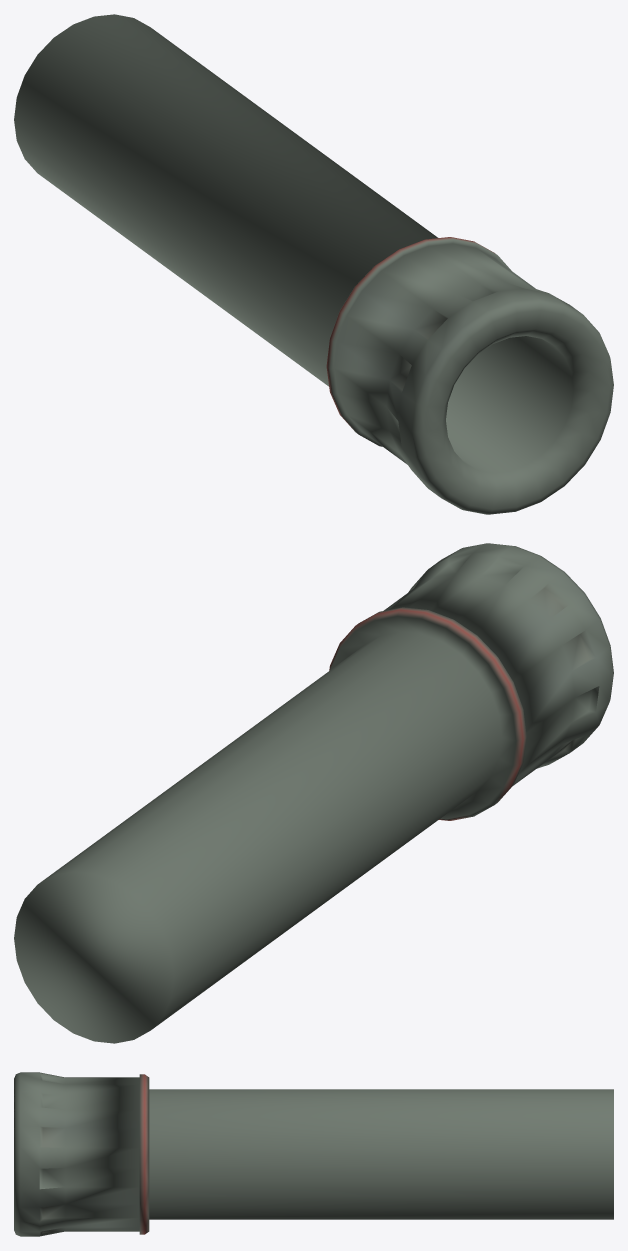
Rendered from cannon.fbx.
The picture shows the model from 3 angles, top to bottom: view 1: azimuth 30°, elevation 25°; view 2: azimuth 150°, elevation 25°; view 3: azimuth 270°, elevation 25°; orthographic projection. The views are drawn at different scales.
Visible parts, largest first — view 1: cannon; view 2: cannon; view 3: cannon.
Boxes of the visible parts, left/top/right/bottom form: cannon: left=14, top=14, right=613, bottom=514; cannon: left=14, top=543, right=613, bottom=1043; cannon: left=14, top=1072, right=613, bottom=1236.
Size of the model in its own units: 30.16 by 30.16 by 110.
